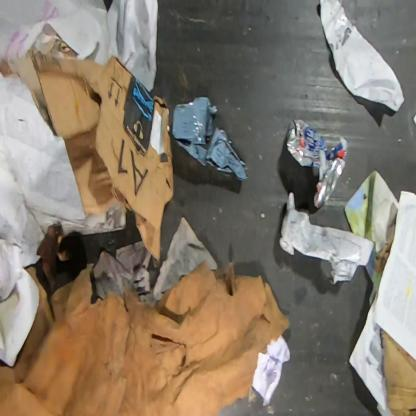cardboard: (0, 50, 174, 263), (381, 329, 415, 415)
metal: (284, 118, 348, 211)
soft_plastic: (171, 96, 248, 181)
